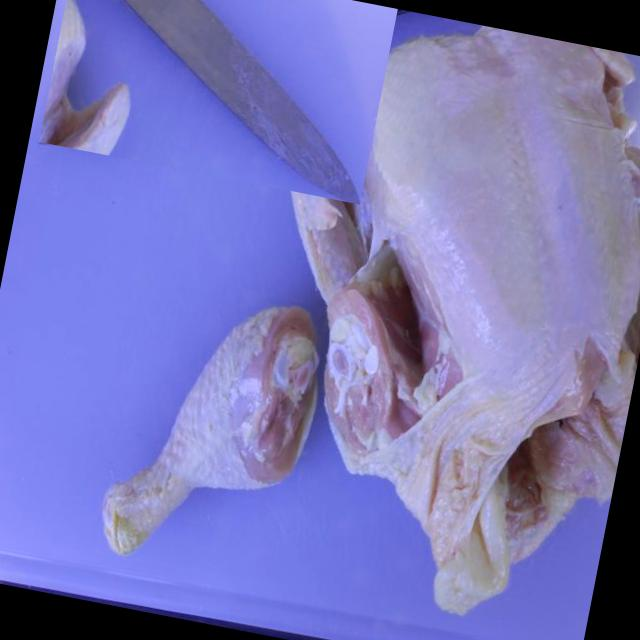Knife: (126, 0, 360, 204)
